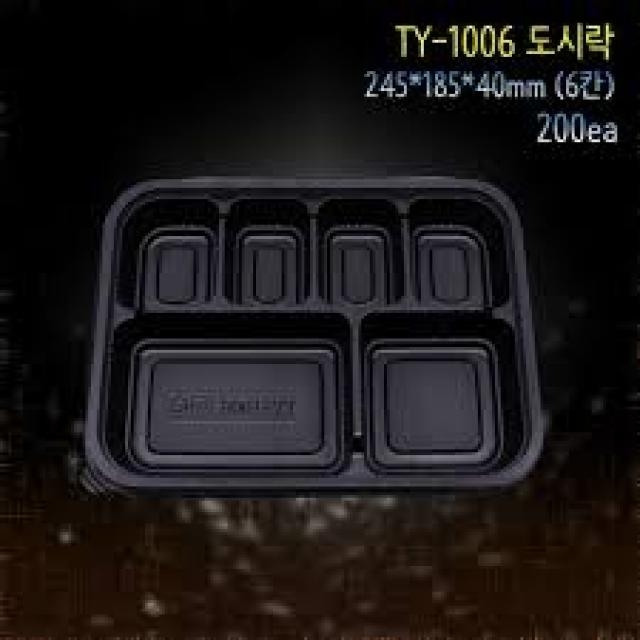disposable: (83, 171, 558, 499)
